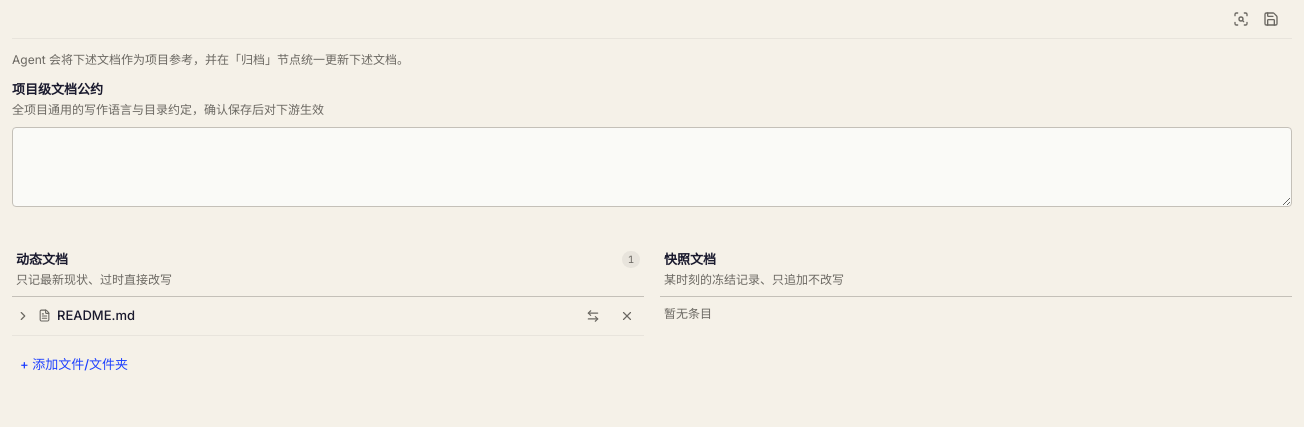
Scenario: DocumentRegistrySettings · 设置常驻文档面板 › 触发重新扫描 → 调 analyzeDocuments 并入新文档（主进程侧合并，不覆盖已审批条）
This screenshot has width=1304, height=427.
expect the text "README.md" is shown: met, box top-left (57, 306), bottom-right (135, 325)
Click the button named "重新扫描": x=1241, y=19 top-left (1228, 6), bottom-right (1254, 32)
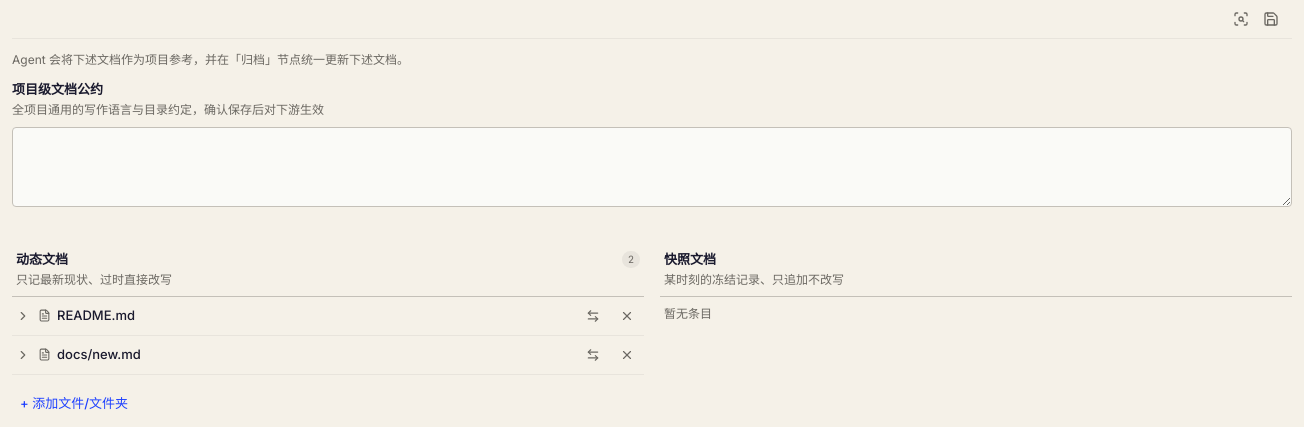
expect the text "README.md" is shown: met, box top-left (57, 306), bottom-right (135, 325)
expect the text "docs/new.md" is shown: met, box top-left (57, 344), bottom-right (141, 364)
